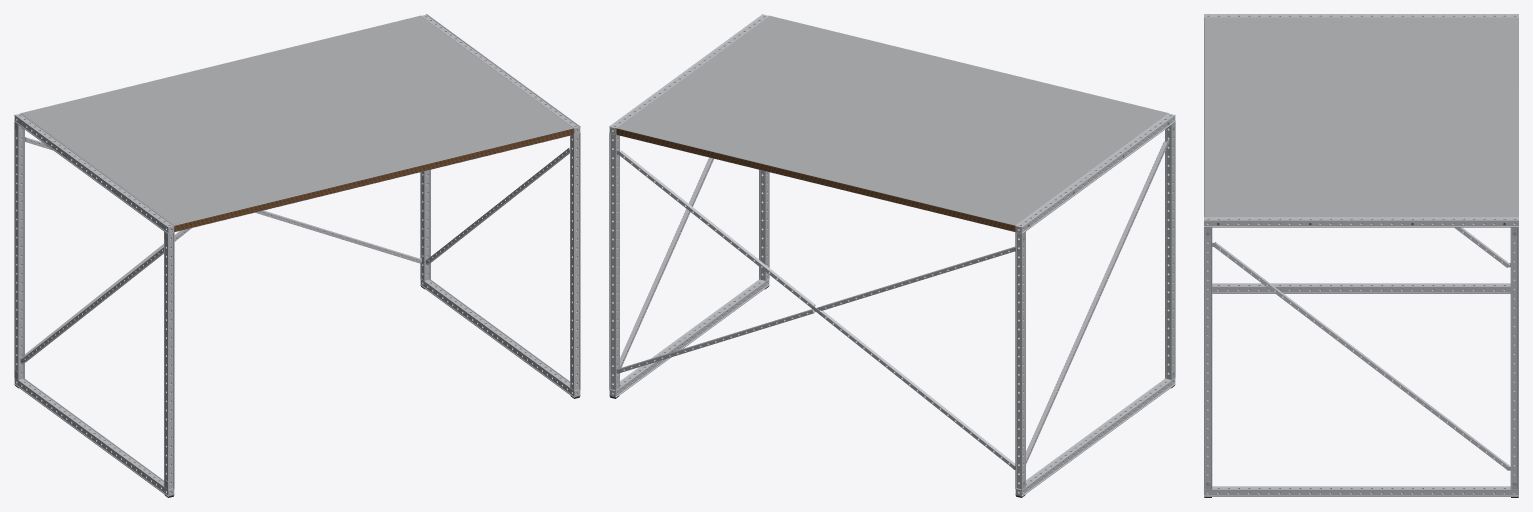
The model's file is field-desk.glb.
The picture shows the model from 3 angles, left to right: view 1: azimuth 30°, elevation 25°; view 2: azimuth 150°, elevation 25°; view 3: azimuth 270°, elevation 25°; orthographic projection. The views are drawn at different scales.
Visible parts, largest first — view 1: Formica tabletop, R20 · Right front leg, R20 · Left front leg, R20 · Left rear leg, R20 · Left top, R20 · Right base, R20 · Left base, R20 · Right top, R20 · Right rear leg, R10 · Right diagonal, R10 · Left diagonal, R10 · Rear diagonal.002; view 2: Formica tabletop, R20 · Right rear leg, R20 · Left rear leg, R20 · Left front leg, R20 · Left top, R20 · Left base, R20 · Right base, R10 · Left diagonal, R10 · Rear diagonal.003, R10 · Rear diagonal, R10 · Right diagonal, R20 · Right top (+3 smaller); view 3: Formica tabletop, R20 · Right top, R20 · Right base, R20 · Left base, R20 · Right front leg, R20 · Right rear leg, R10 · Right diagonal, R20 · Left top, R10 · Left diagonal.
Boxes of the visible parts, left/top/right/bottom form: Formica tabletop: left=21, top=16, right=573, bottom=231; R20 · Right front leg: left=570, top=133, right=580, bottom=390; R20 · Left front leg: left=164, top=231, right=174, bottom=489; R20 · Left rear leg: left=14, top=122, right=24, bottom=380; R20 · Left top: left=14, top=113, right=174, bottom=234; R20 · Right base: left=420, top=278, right=580, bottom=397; R20 · Left base: left=14, top=377, right=174, bottom=496; R20 · Right top: left=420, top=14, right=580, bottom=134; R20 · Right rear leg: left=420, top=169, right=430, bottom=281; R10 · Right diagonal: left=425, top=147, right=569, bottom=264; R10 · Left diagonal: left=22, top=247, right=163, bottom=362; R10 · Rear diagonal.002: left=255, top=210, right=421, bottom=263; Formica tabletop: left=616, top=16, right=1168, bottom=231; R20 · Right rear leg: left=609, top=133, right=619, bottom=390; R20 · Left rear leg: left=1015, top=231, right=1025, bottom=489; R20 · Left front leg: left=1165, top=122, right=1175, bottom=380; R20 · Left top: left=1015, top=113, right=1175, bottom=234; R20 · Left base: left=1015, top=377, right=1175, bottom=496; R20 · Right base: left=609, top=278, right=769, bottom=397; R10 · Left diagonal: left=1026, top=141, right=1167, bottom=464; R10 · Rear diagonal.003: left=619, top=150, right=815, bottom=308; R10 · Rear diagonal: left=820, top=311, right=1015, bottom=468; R10 · Right diagonal: left=620, top=157, right=713, bottom=367; R20 · Right top: left=609, top=14, right=769, bottom=134; Formica tabletop: left=1204, top=17, right=1518, bottom=216; R20 · Right top: left=1204, top=217, right=1518, bottom=227; R20 · Right base: left=1204, top=486, right=1518, bottom=496; R20 · Left base: left=1212, top=283, right=1510, bottom=293; R20 · Right front leg: left=1204, top=227, right=1212, bottom=489; R20 · Right rear leg: left=1510, top=227, right=1518, bottom=489; R10 · Right diagonal: left=1214, top=242, right=1509, bottom=469; R20 · Left top: left=1204, top=14, right=1518, bottom=17; R10 · Left diagonal: left=1454, top=227, right=1509, bottom=267.
Size of the model in its own units: 1.2 by 0.75 by 0.77.
Materials: 7 (1 with a texture image).
